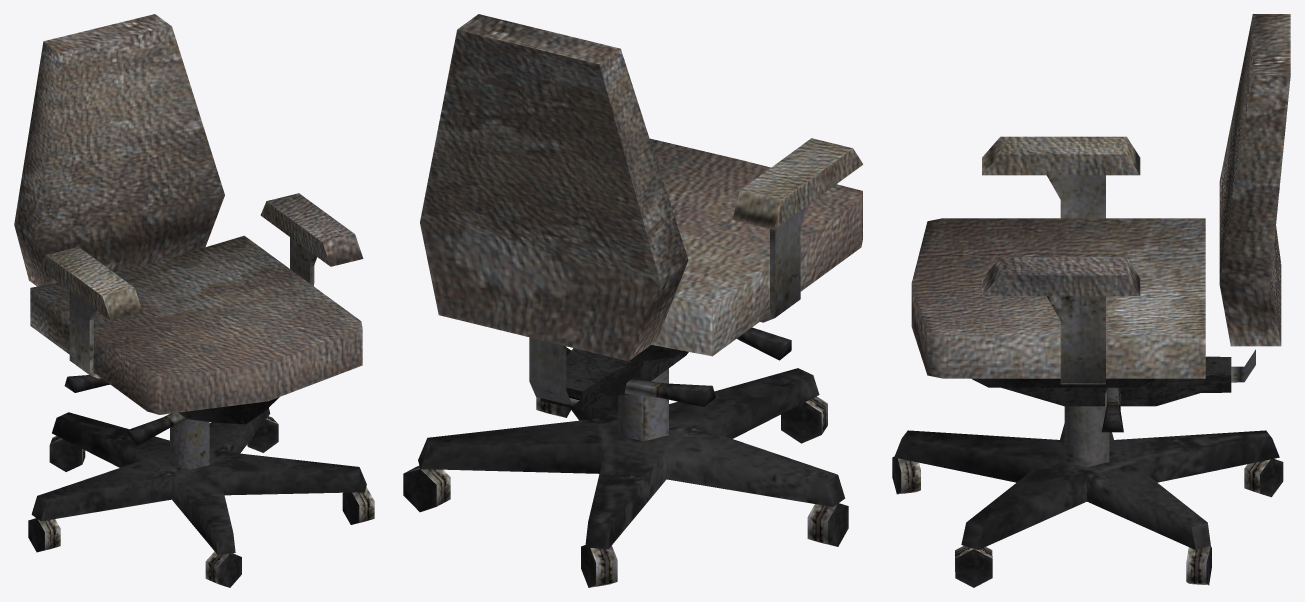
Rendered from M_Home_Garden_Chair_04.fbx.
3 renders of one model, left to right at view 1: azimuth 30°, elevation 25°; view 2: azimuth 150°, elevation 25°; view 3: azimuth 270°, elevation 25°, orthographic. The views are drawn at different scales.
Visible parts, largest first — view 1: M_Home_Garden_Chair_04; view 2: M_Home_Garden_Chair_04; view 3: M_Home_Garden_Chair_04.
Boxes of the visible parts, x1,y1,x2,y2 form: M_Home_Garden_Chair_04: (14,14,374,587); M_Home_Garden_Chair_04: (403,14,863,587); M_Home_Garden_Chair_04: (892,14,1290,587).
Size of the model in its own units: 70.36 by 97.99 by 74.66.
